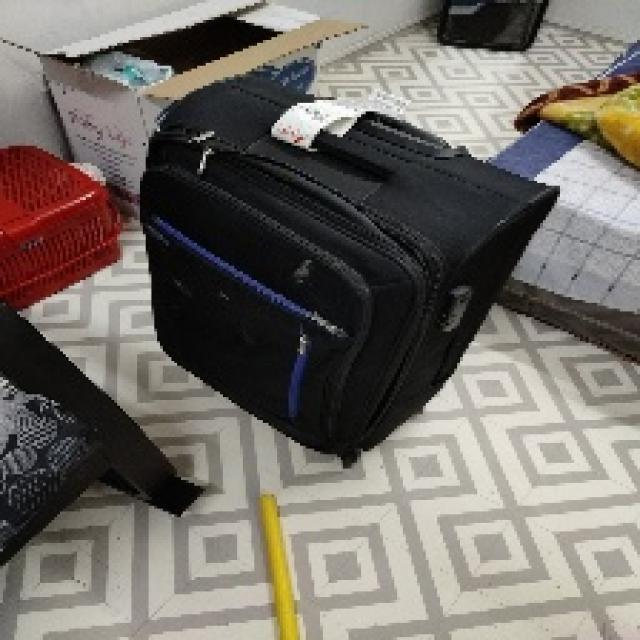Suitcase: (133, 73, 568, 479)
